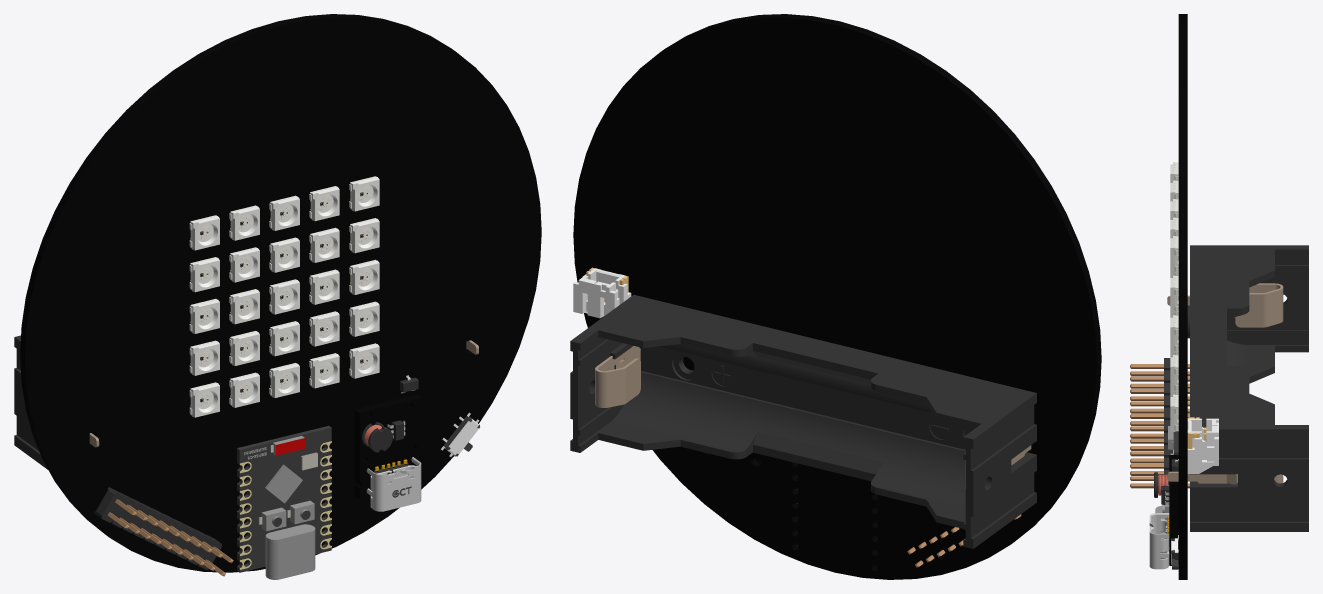
The model's file is medal.glb.
3 views of the same model, side by side, from view 1: azimuth 30°, elevation 25°; view 2: azimuth 150°, elevation 25°; view 3: azimuth 270°, elevation 25° (orthographic). The views are drawn at different scales.
Visible parts, largest first — view 1: Bryła1 (×33), Bryła2, Bryła35; view 2: Bryła1 (×3), Bryła3, Bryła2; view 3: Bryła1 (×11), Bryła2 (×2), Bryła3.
Part boxes in pixels (left/top/right/bottom): Bryła1 (×33): left=14, top=14, right=541, bottom=572; Bryła2: left=265, top=524, right=315, bottom=579; Bryła35: left=265, top=464, right=302, bottom=503; Bryła1 (×3): left=570, top=14, right=1101, bottom=579; Bryła3: left=595, top=346, right=640, bottom=407; Bryła2: left=573, top=268, right=631, bottom=318; Bryła1 (×11): left=1149, top=14, right=1308, bottom=579; Bryła2 (×2): left=1167, top=283, right=1283, bottom=473; Bryła3: left=1167, top=471, right=1283, bottom=484.
Size of the model in its own units: 0.1 by 0.1002 by 0.0316.
